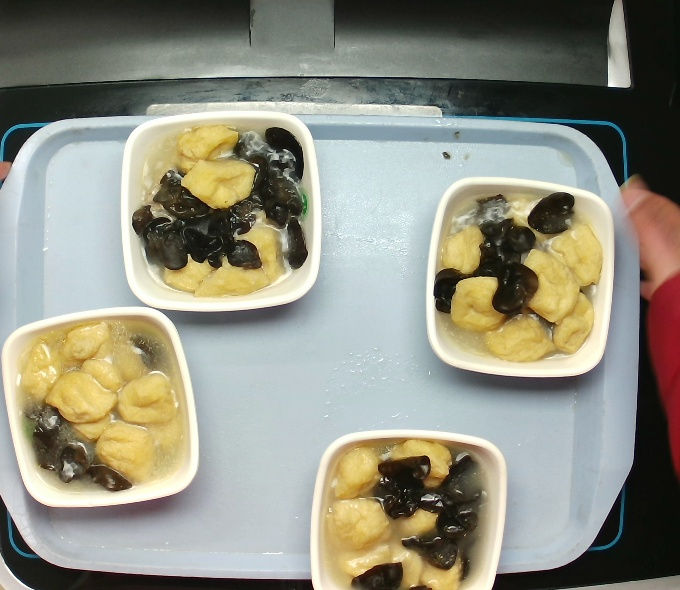wcq-MuErYouPaoTang: (4, 308, 195, 502), (436, 175, 601, 375), (132, 127, 308, 291), (322, 436, 494, 587)
